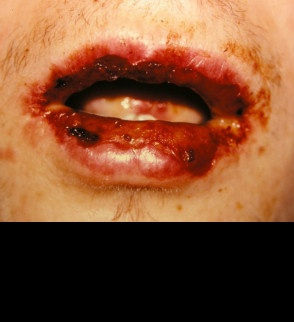SJS-TEN: (1, 24, 272, 196)
